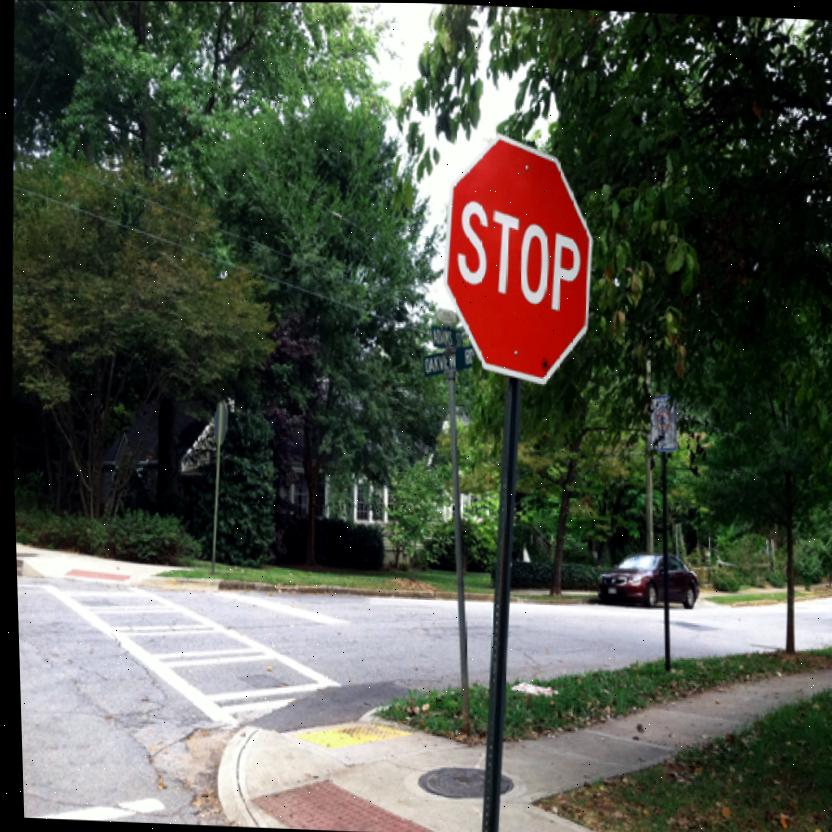Pole: (462, 389, 531, 827), (649, 455, 675, 667), (203, 447, 222, 577)
Sign: (437, 126, 602, 390), (208, 402, 228, 446)
